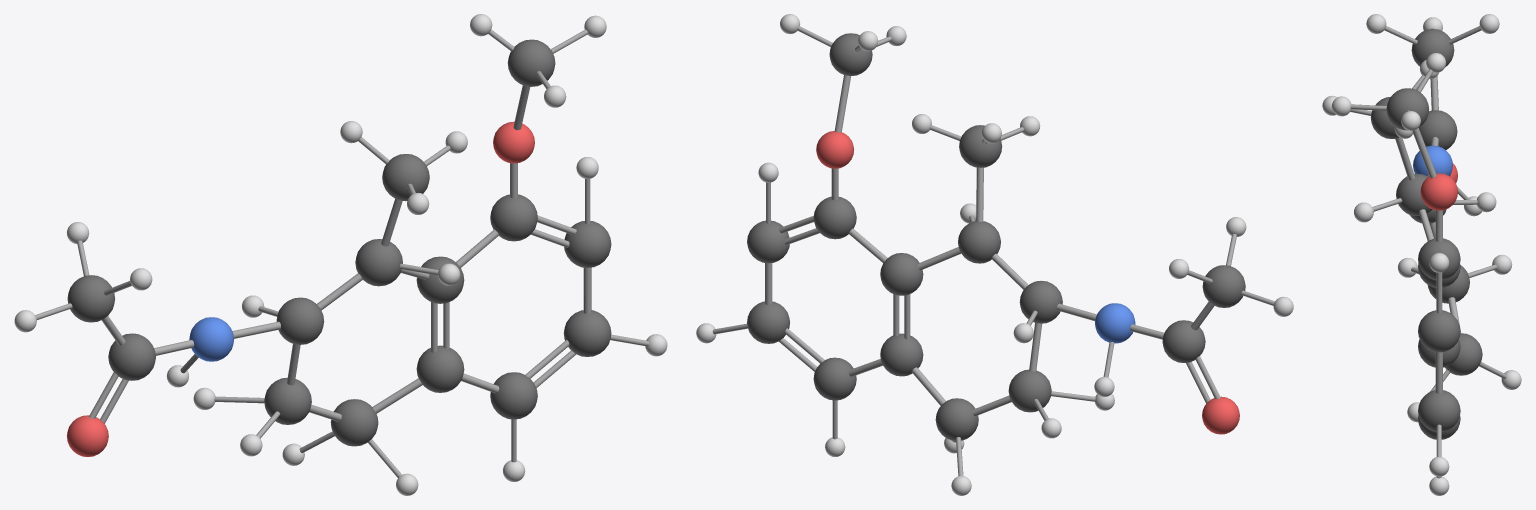
3 views of the same model, side by side, from view 1: azimuth 30°, elevation 25°; view 2: azimuth 150°, elevation 25°; view 3: azimuth 270°, elevation 25° (orthographic). The views are drawn at different scales.
Parts seen in each view (by area): view 1: C14H19NO2; view 2: C14H19NO2; view 3: C14H19NO2.
Boxes of the visible parts, x1,y1,x2,y2 form: C14H19NO2: (14, 14, 667, 495); C14H19NO2: (696, 14, 1293, 495); C14H19NO2: (1322, 14, 1521, 495).
Size of the model in its own units: 10.75 by 7.48 by 3.17.
